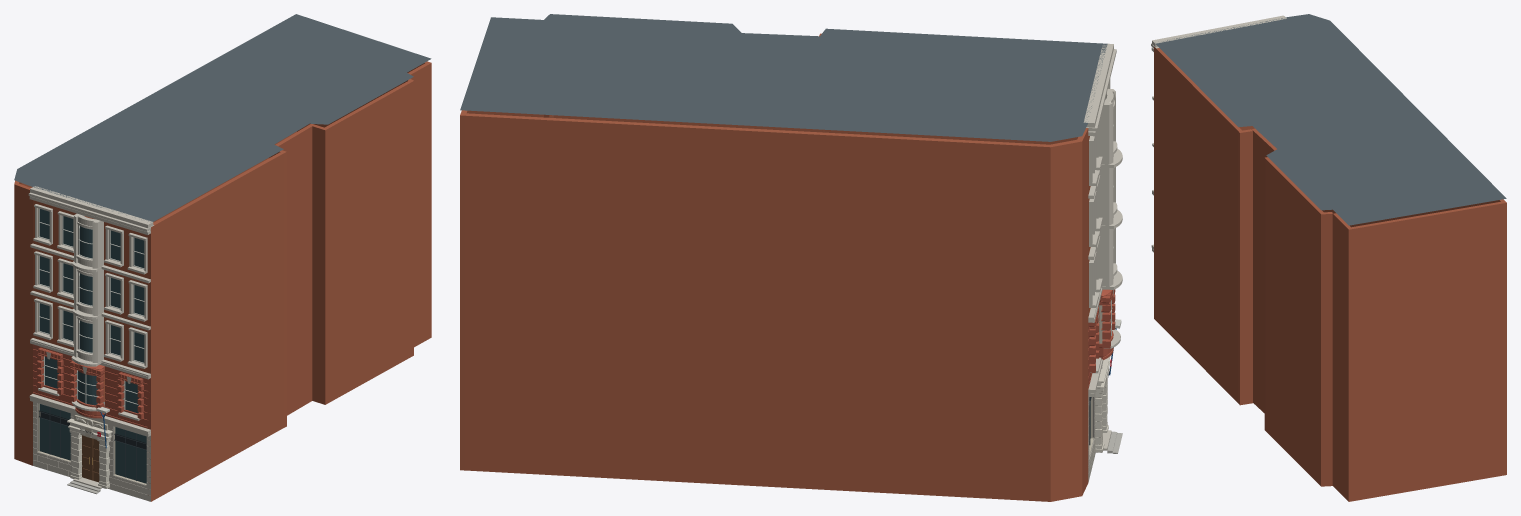
The model's file is ksw-exterior-62d878be4fde.glb.
3 views of the same model, side by side, from view 1: azimuth 30°, elevation 25°; view 2: azimuth 150°, elevation 25°; view 3: azimuth 270°, elevation 25° (orthographic). The views are drawn at different scales.
Visible parts, largest first — view 1: KSW.001; view 2: KSW.001; view 3: KSW.001.
Boxes of the visible parts, <box> form: KSW.001: <box>14,14,431,501</box>; KSW.001: <box>460,14,1122,501</box>; KSW.001: <box>1151,14,1506,501</box>.
Size of the model in its own units: 33.77 by 20.55 by 23.99.
